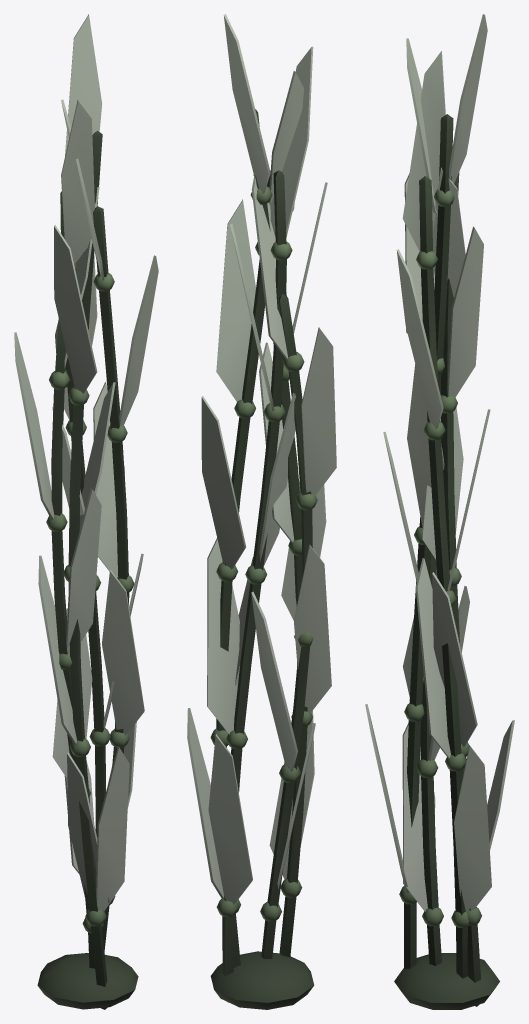
File: kelp.glb
The picture shows the model from 3 angles, left to right: view 1: azimuth 30°, elevation 25°; view 2: azimuth 150°, elevation 25°; view 3: azimuth 270°, elevation 25°; orthographic projection. The views are drawn at different scales.
Visible parts, largest first — view 1: Kelp; view 2: Kelp; view 3: Kelp.
Part boxes in pixels (bbox=[...]): Kelp: bbox=[14, 14, 158, 1009]; Kelp: bbox=[187, 14, 336, 1009]; Kelp: bbox=[365, 14, 514, 1009].
Bounding box in the file's own units: 0.4973 × 3.48 × 0.474.
